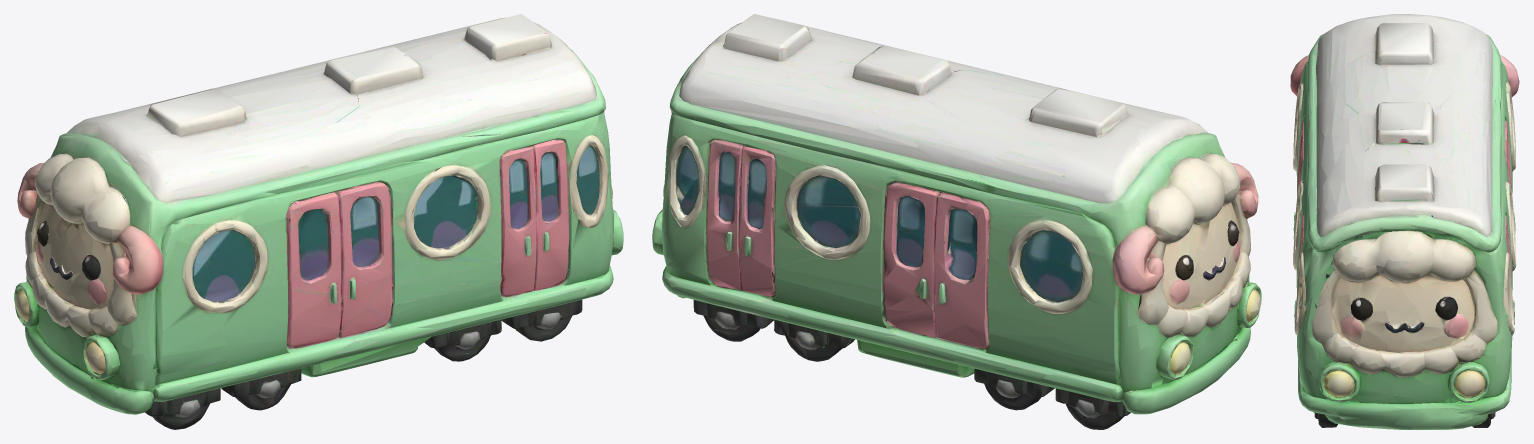
Rendered from hq_train.glb.
The picture shows the model from 3 angles, left to right: view 1: azimuth 30°, elevation 25°; view 2: azimuth 150°, elevation 25°; view 3: azimuth 270°, elevation 25°; orthographic projection. The views are drawn at different scales.
Bounding box in the file's own units: 1.9 × 0.9442 × 0.775.
1 material, 1 textured.
